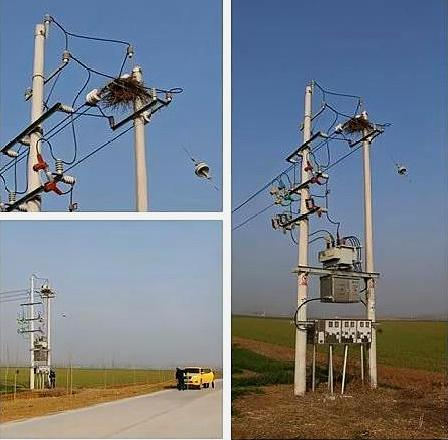bird-nest: (110, 75, 151, 104)
